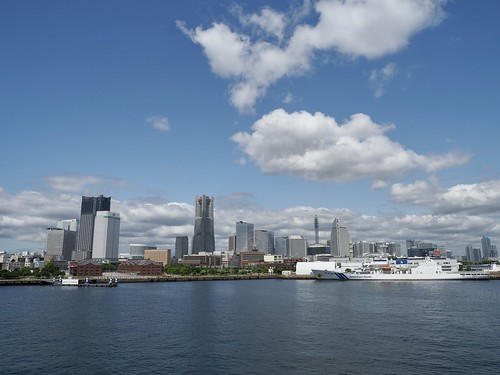boat: (308, 256, 499, 285)
building: (76, 191, 110, 258), (190, 192, 219, 253), (94, 210, 122, 263), (45, 220, 75, 260), (233, 219, 254, 254), (254, 229, 274, 258), (140, 246, 172, 264), (332, 226, 348, 260), (288, 236, 308, 262), (174, 233, 189, 261), (129, 242, 154, 258), (276, 232, 288, 254)
river: (6, 285, 500, 375)
sky: (1, 1, 500, 200)
